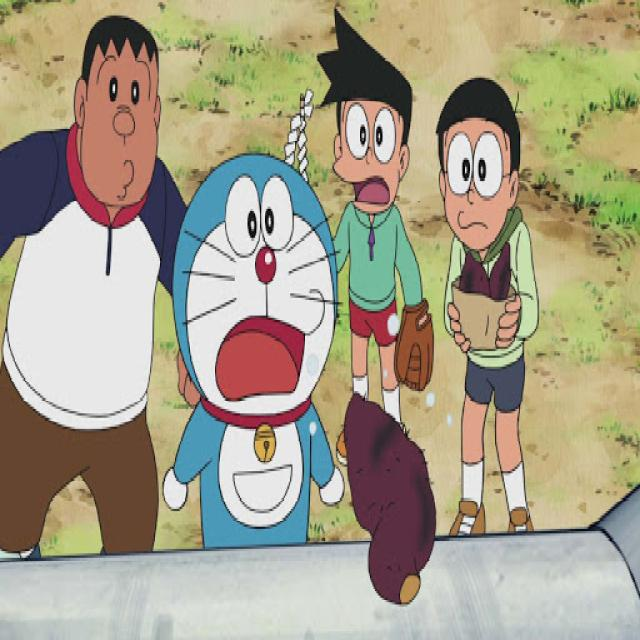doraemon: (166, 140, 340, 458)
jaian: (61, 2, 170, 222)
nobita: (432, 58, 522, 251)
suneo: (309, 2, 415, 231)
